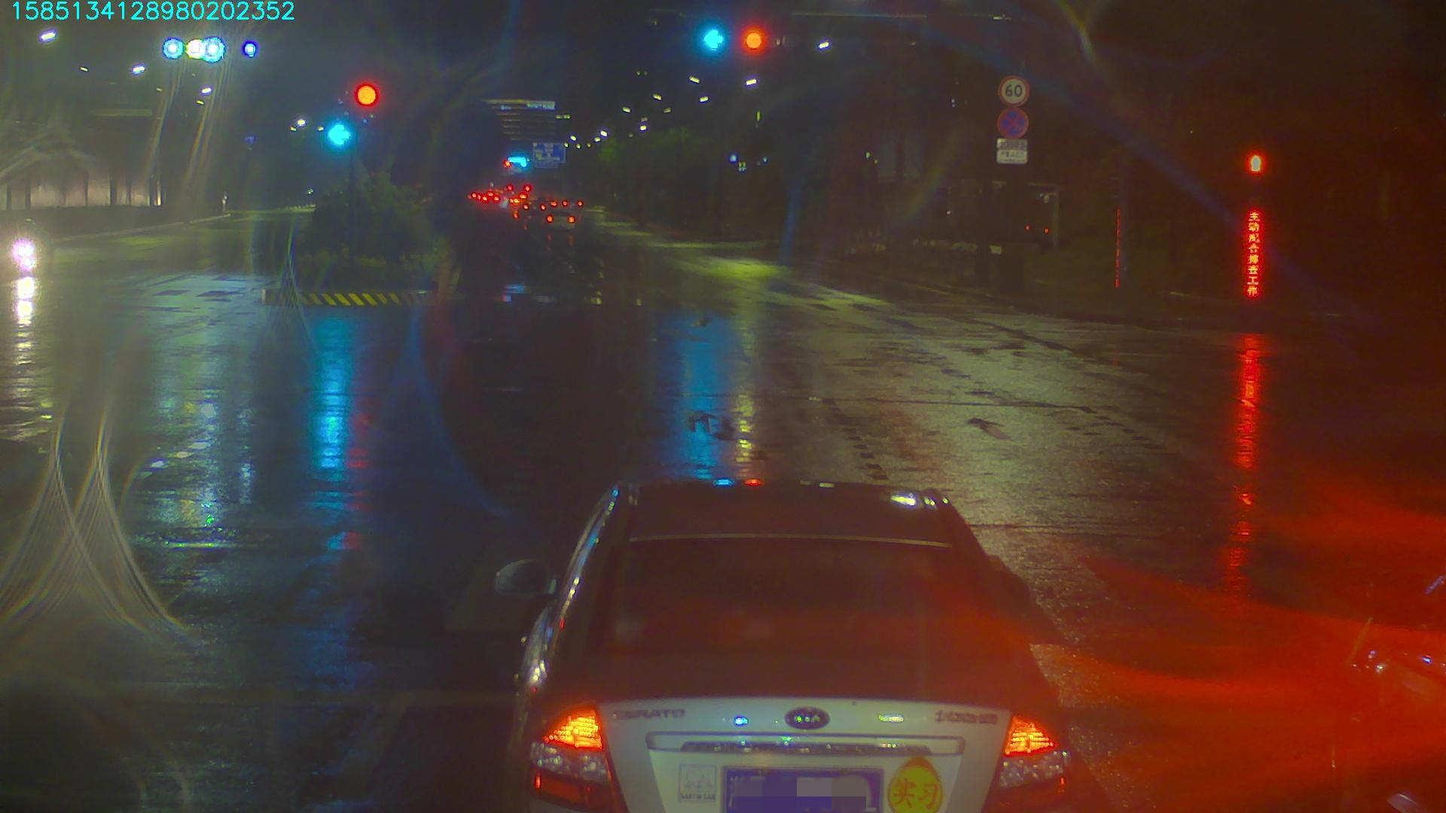green: (704, 21, 731, 49)
red: (740, 29, 767, 49)
